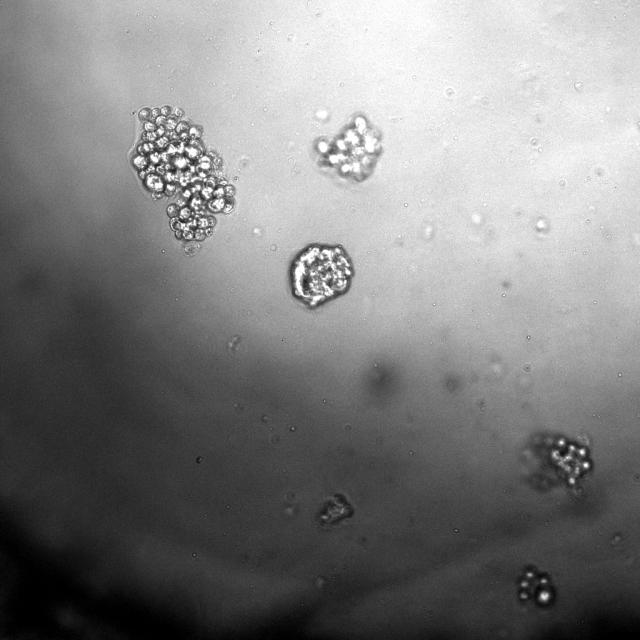organoid: (131, 105, 234, 241), (521, 431, 593, 497), (315, 114, 382, 182), (289, 244, 352, 308), (517, 565, 556, 608), (316, 493, 354, 527)
